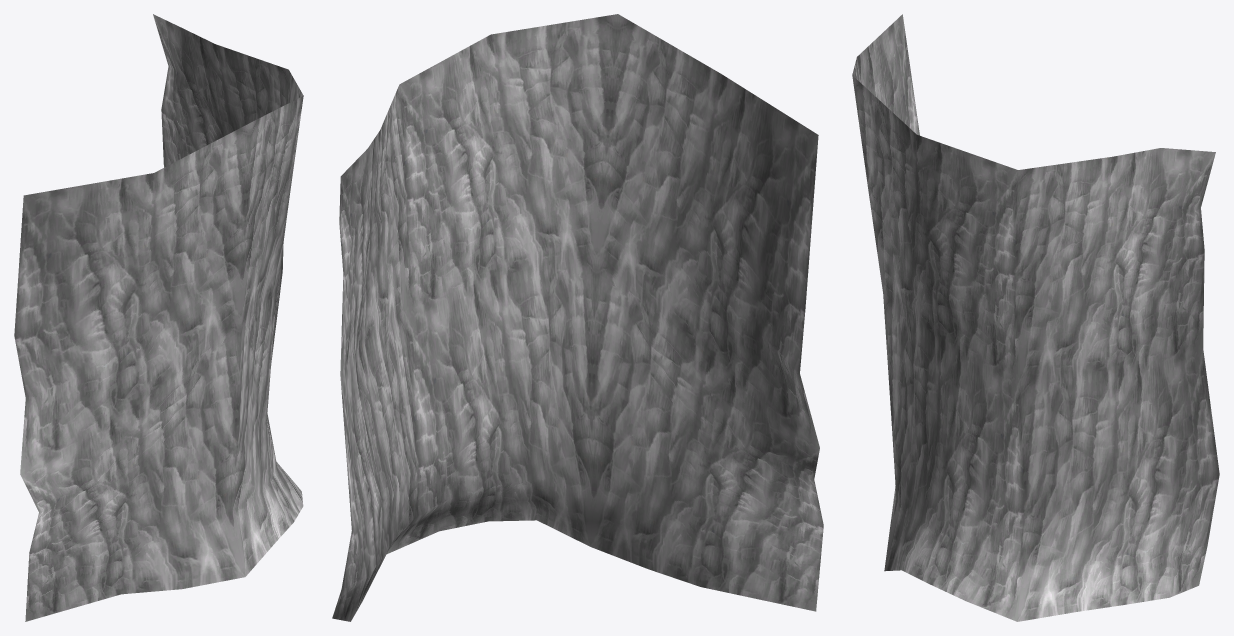
The model's file is SWORDLIGHT20_PS-AREA03_74.fbx.
The picture shows the model from 3 angles, left to right: view 1: azimuth 30°, elevation 25°; view 2: azimuth 150°, elevation 25°; view 3: azimuth 270°, elevation 25°; orthographic projection. The views are drawn at different scales.
Visible parts, largest first — view 1: SWORDLIGHT20_PS-AREA03_74; view 2: SWORDLIGHT20_PS-AREA03_74; view 3: SWORDLIGHT20_PS-AREA03_74.
Part boxes in pixels (bbox=[...]): SWORDLIGHT20_PS-AREA03_74: bbox=[14, 14, 303, 621]; SWORDLIGHT20_PS-AREA03_74: bbox=[332, 14, 823, 621]; SWORDLIGHT20_PS-AREA03_74: bbox=[852, 14, 1219, 621].
Size of the model in its own units: 124065 by 166272 by 112231.
1 material, 1 textured.
